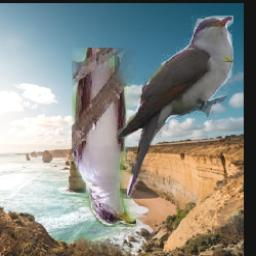Cuckoo: (117, 16, 234, 198), (73, 49, 137, 228)
